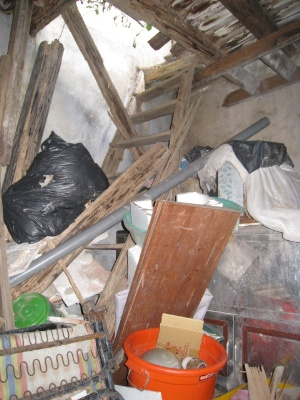bucket: (122, 325, 230, 400)
plastic_bag: (3, 131, 111, 244), (197, 138, 300, 243)
